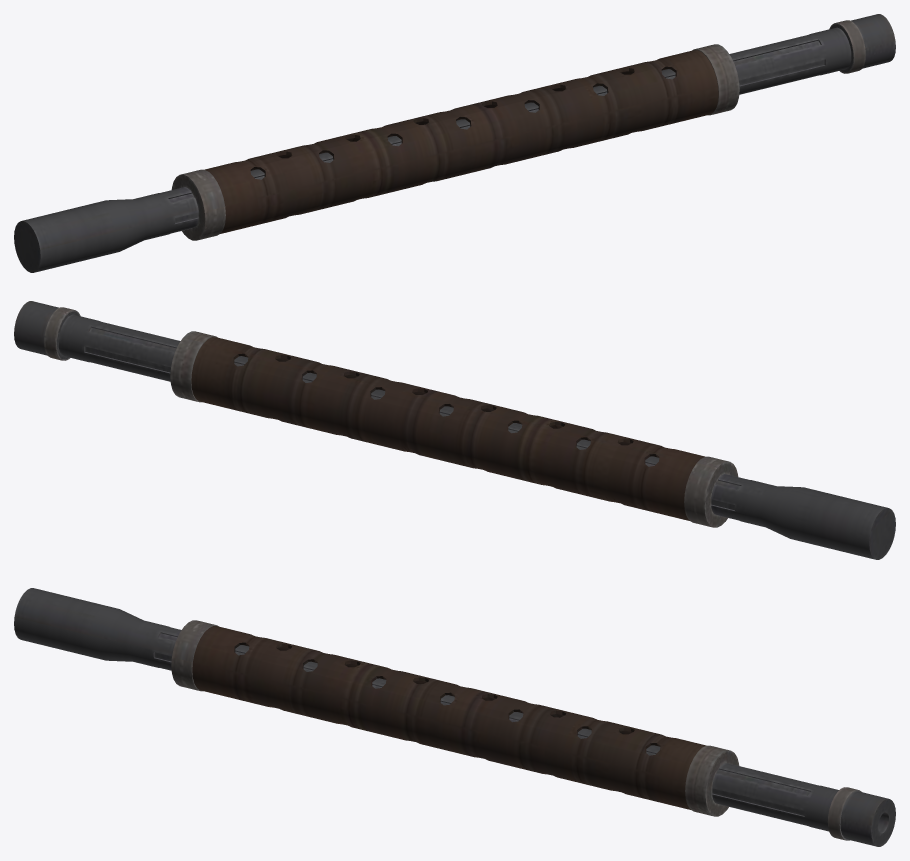
Rendered from fluted_cooler.glb.
The picture shows the model from 3 angles, top to bottom: view 1: azimuth 30°, elevation 25°; view 2: azimuth 150°, elevation 25°; view 3: azimuth 330°, elevation 25°; orthographic projection.
Visible parts, largest first — view 1: fluted_cooler; view 2: fluted_cooler; view 3: fluted_cooler.
Part boxes in pixels (x1=…): fluted_cooler: x1=14, y1=14, x2=895, y2=272; fluted_cooler: x1=14, y1=301, x2=895, y2=559; fluted_cooler: x1=14, y1=588, x2=895, y2=846.
Bounding box in the file's own units: 0.5 × 0.0344 × 0.0344.
Materials: 1 (1 with a texture image).
